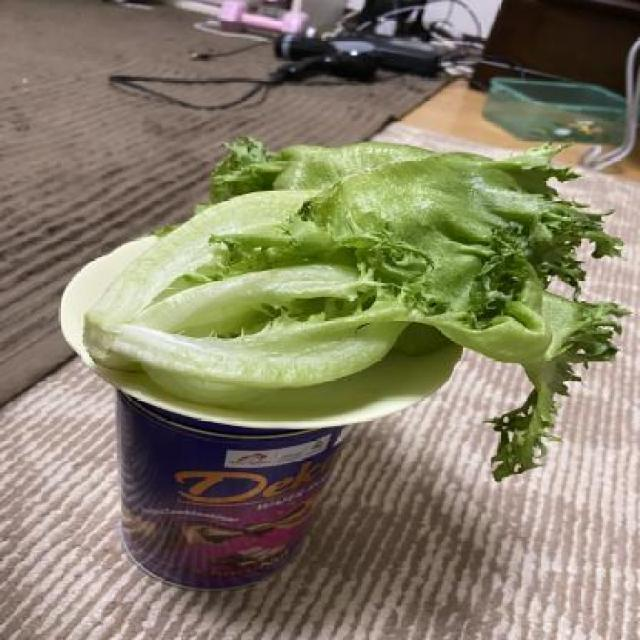Lettuce: (87, 132, 624, 486)
